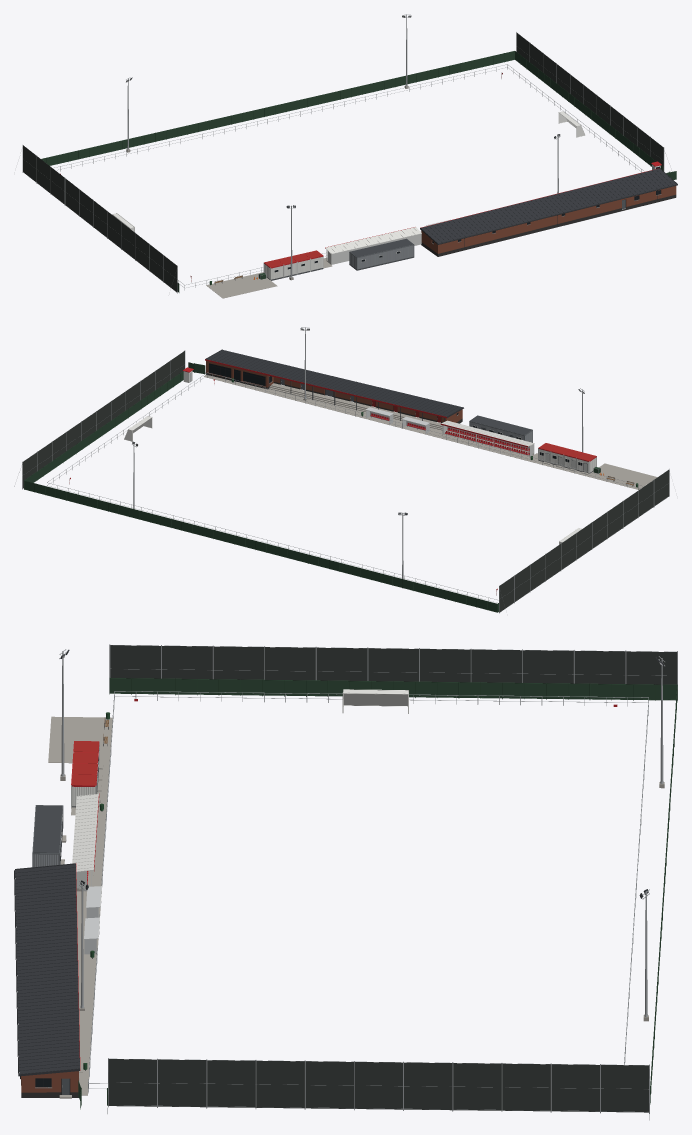
The model's file is football.glb.
3 renders of one model, top to bottom at view 1: azimuth 30°, elevation 25°; view 2: azimuth 150°, elevation 25°; view 3: azimuth 270°, elevation 25°, orthographic. The views are drawn at different scales.
Visible parts, largest first — view 1: fb_fittings, fb_ballnet, fb_fence, fb_brick, fb_concrete, fb_plinth; view 2: fb_fittings, fb_ballnet, fb_fence, fb_concrete, fb_brick, fb_glass; view 3: fb_ballnet, fb_fittings, fb_fence, fb_concrete, fb_goalnet_far, fb_brick.
Part boxes in pixels (x1,y1,x2,y2): fb_fittings: [22, 14, 677, 293]; fb_ballnet: [23, 33, 663, 292]; fb_fence: [41, 51, 676, 292]; fb_brick: [421, 186, 676, 253]; fb_concrete: [126, 85, 408, 298]; fb_plinth: [421, 194, 676, 256]; fb_fittings: [14, 327, 669, 613]; fb_ballnet: [22, 351, 669, 612]; fb_fence: [24, 362, 600, 612]; fb_concrete: [204, 372, 657, 489]; fb_brick: [206, 361, 462, 422]; fb_glass: [208, 363, 582, 465]; fb_ballnet: [108, 645, 676, 1112]; fb_fittings: [14, 644, 677, 1120]; fb_fence: [78, 678, 677, 1106]; fb_concrete: [48, 716, 664, 1098]; fb_goalnet_far: [343, 689, 408, 706]; fb_brick: [21, 1071, 78, 1092].
Bounding box in the file's own units: 118 × 16.3 × 75.79.
